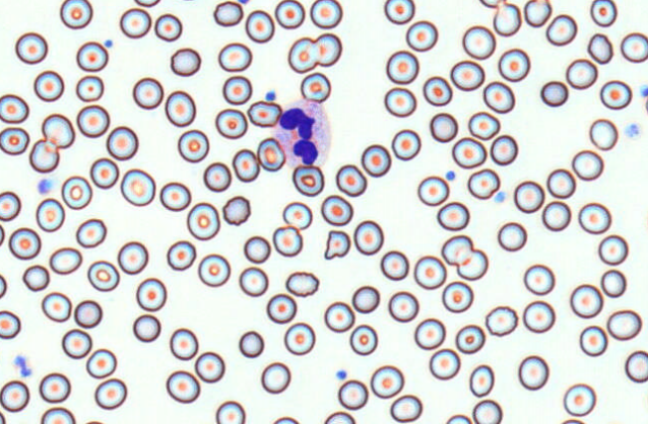GRAN: (273, 99, 332, 171)
PLT: (34, 177, 52, 197), (622, 124, 641, 140), (444, 168, 457, 181), (335, 368, 348, 381), (639, 83, 648, 99), (495, 191, 507, 203), (103, 36, 114, 49), (267, 89, 277, 102)
RBC: (120, 168, 155, 206), (186, 202, 220, 240), (41, 113, 75, 148), (569, 283, 603, 318), (164, 90, 196, 127), (370, 364, 404, 398), (165, 370, 200, 403), (287, 36, 318, 73), (197, 253, 230, 287), (413, 255, 446, 289), (462, 25, 495, 59), (451, 136, 486, 168), (106, 125, 138, 160), (606, 309, 642, 340), (522, 300, 555, 333), (563, 383, 596, 416), (76, 104, 109, 137), (386, 50, 418, 84), (450, 59, 484, 91), (498, 48, 530, 82), (518, 355, 549, 390), (353, 219, 383, 255), (94, 378, 127, 410), (441, 280, 473, 313), (283, 322, 315, 355), (320, 194, 353, 226), (335, 163, 367, 196), (8, 227, 41, 259), (545, 13, 577, 46), (177, 129, 209, 162), (578, 202, 611, 234), (15, 31, 47, 64), (135, 277, 166, 311), (484, 305, 518, 336), (117, 240, 148, 274), (360, 143, 391, 177), (61, 175, 92, 209), (29, 138, 59, 173), (217, 42, 252, 72), (456, 248, 488, 280), (441, 234, 473, 266), (523, 263, 555, 295), (292, 164, 324, 196), (482, 81, 514, 113), (571, 149, 603, 181), (513, 180, 544, 213), (599, 79, 632, 110), (35, 198, 65, 232), (429, 348, 460, 380), (414, 317, 445, 349), (194, 351, 225, 383), (38, 372, 70, 403), (119, 7, 151, 38), (417, 175, 449, 206), (87, 260, 119, 291), (132, 77, 163, 109), (215, 108, 247, 139), (405, 20, 437, 51), (76, 41, 108, 72), (565, 58, 597, 89), (436, 201, 469, 231), (256, 137, 285, 171), (492, 2, 521, 36), (245, 9, 274, 43), (272, 225, 303, 256), (337, 379, 368, 410), (33, 70, 64, 101), (260, 361, 290, 393), (388, 290, 418, 322), (89, 157, 119, 189), (159, 181, 191, 211), (384, 87, 416, 117), (0, 379, 29, 412), (169, 327, 198, 360), (467, 111, 500, 140), (59, 0, 92, 29), (314, 32, 342, 66), (231, 148, 259, 182), (85, 348, 116, 378), (324, 301, 354, 332), (300, 72, 331, 102), (61, 328, 92, 358), (75, 218, 106, 248), (41, 291, 71, 322), (541, 200, 571, 231), (598, 234, 628, 265), (422, 75, 452, 106), (391, 129, 421, 160), (589, 118, 618, 150), (389, 394, 422, 422), (49, 246, 82, 274), (309, 0, 342, 28), (285, 270, 319, 297), (238, 266, 268, 296), (266, 293, 296, 323), (166, 240, 196, 270), (497, 221, 527, 251), (546, 168, 576, 198), (170, 47, 201, 76), (274, 0, 305, 29), (380, 250, 409, 280), (0, 93, 29, 123), (455, 324, 485, 353), (222, 75, 252, 104), (429, 112, 458, 142), (203, 161, 231, 192), (349, 324, 377, 355), (579, 325, 607, 356), (132, 313, 161, 342), (0, 126, 29, 155), (73, 299, 102, 328), (222, 195, 250, 225), (282, 201, 312, 229), (620, 32, 647, 63), (490, 134, 517, 165), (469, 364, 494, 397), (75, 74, 104, 102), (154, 13, 182, 41), (213, 0, 243, 26), (243, 235, 270, 263), (352, 285, 379, 313), (523, 0, 551, 27), (540, 80, 568, 107), (383, 0, 414, 24), (22, 264, 49, 291), (590, 0, 617, 27), (600, 269, 626, 297), (625, 350, 647, 383), (472, 399, 502, 423), (238, 330, 264, 357), (215, 400, 245, 423), (0, 190, 21, 221), (0, 309, 20, 339), (40, 406, 75, 423), (324, 411, 355, 423), (445, 414, 472, 423), (479, 0, 504, 8), (133, 0, 160, 7), (272, 416, 299, 423), (0, 273, 7, 298), (560, 418, 585, 423), (0, 223, 5, 246), (84, 420, 105, 424), (0, 410, 6, 423), (0, 344, 2, 369)
Schistocyte: (324, 229, 351, 261), (587, 32, 614, 64), (249, 102, 282, 127)
